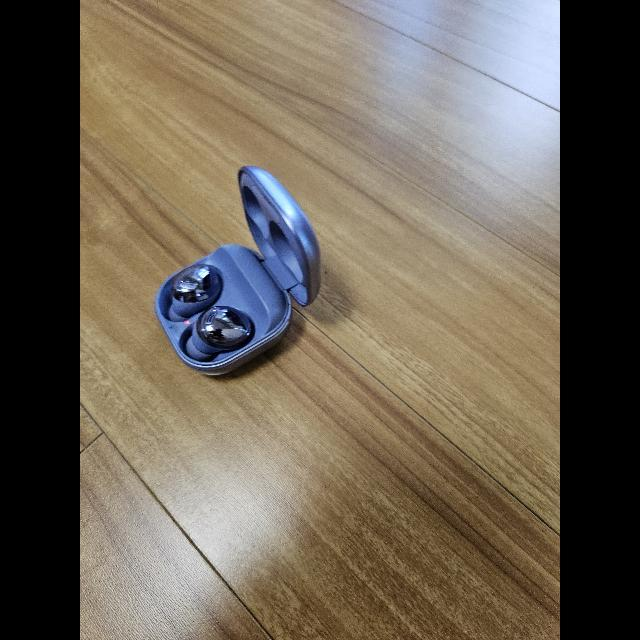buds-pro: (154, 163, 322, 379)
